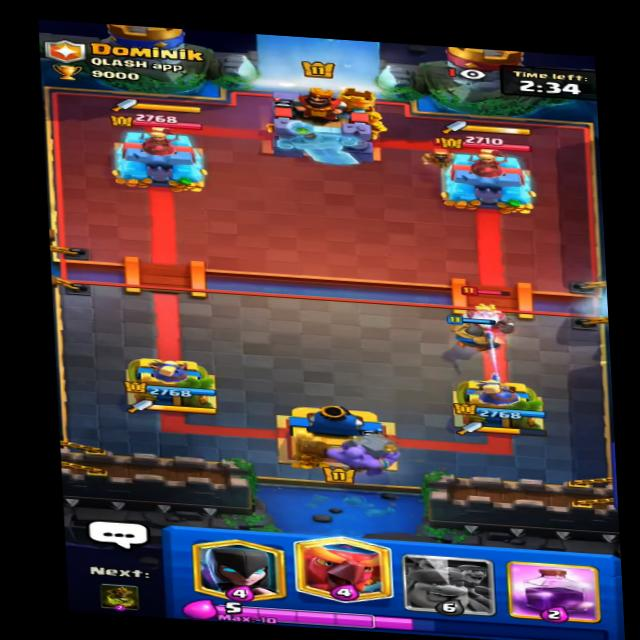royal-ghost: (454, 283, 514, 333)
wizard: (415, 133, 465, 175)
